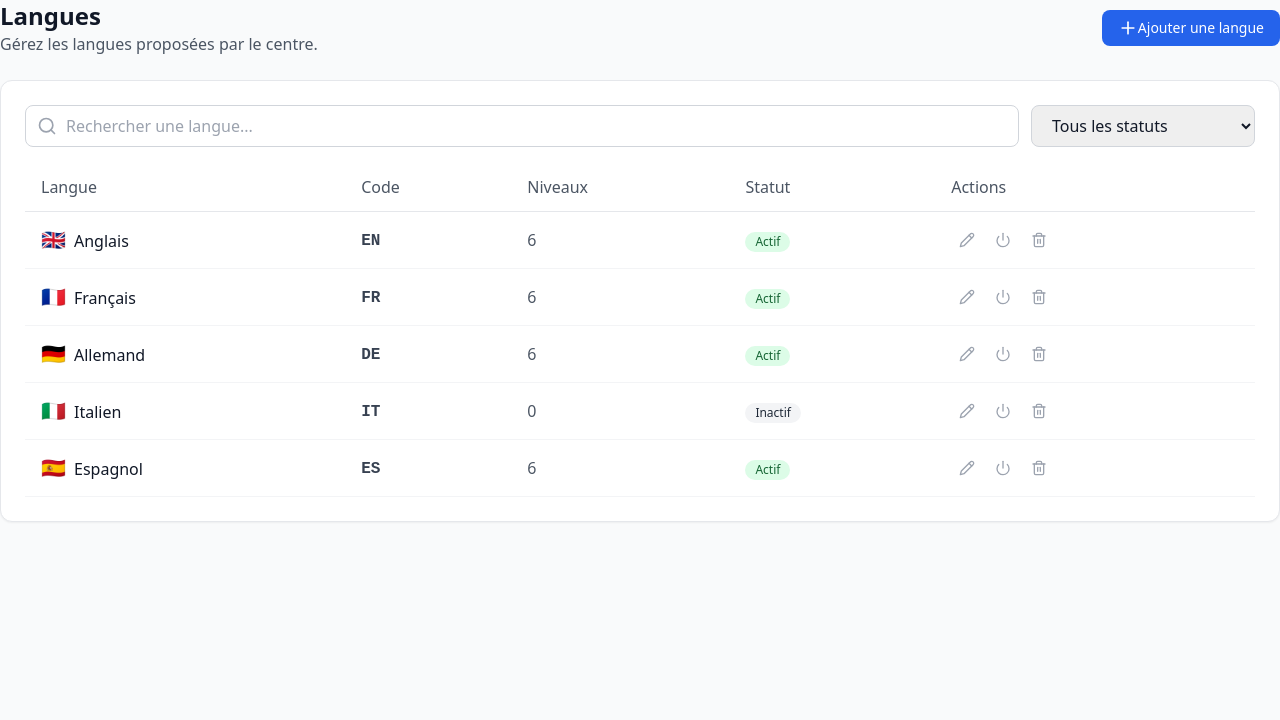
Test: Languages page (démo locale) › adds a language through the modal
Click the button "Ajouter une langue".
click(1191, 28)  # box [1102, 10, 1279, 46]
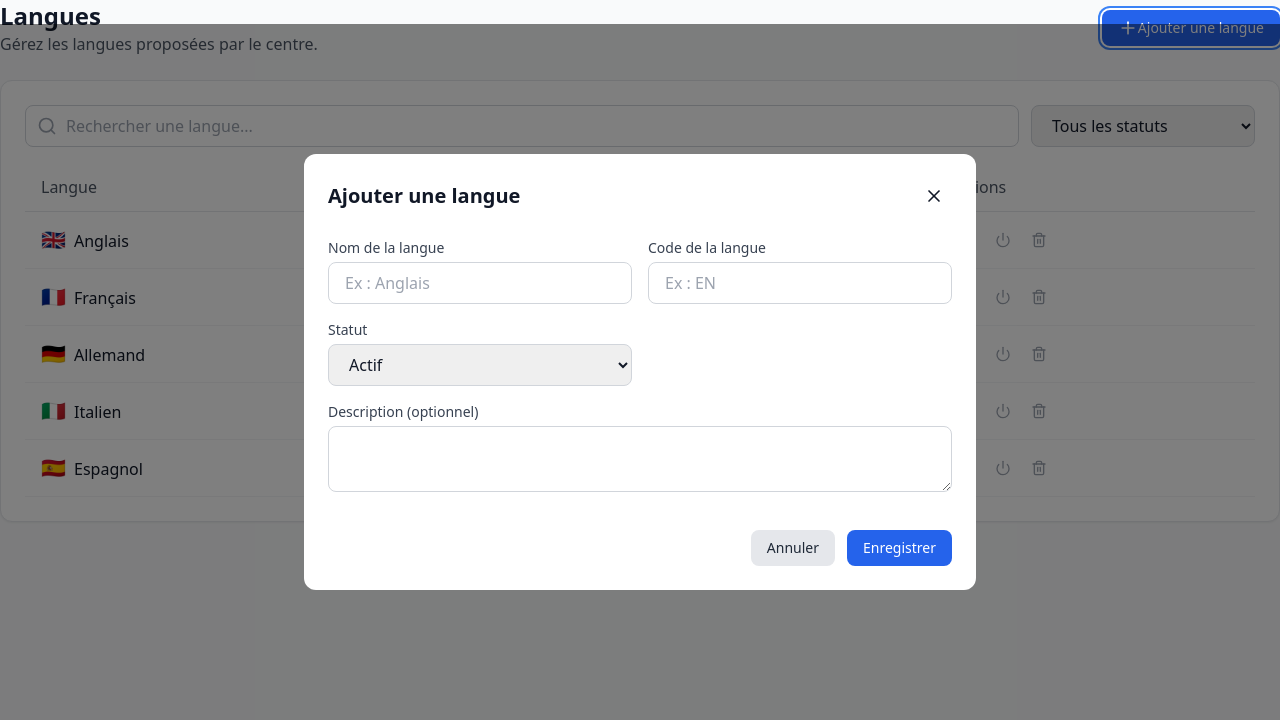
Now the dialog is shown
Type "Portugais" into the field labelled "Nom de la langue".
click(480, 283); type("Portugais")  # box [328, 262, 632, 304]
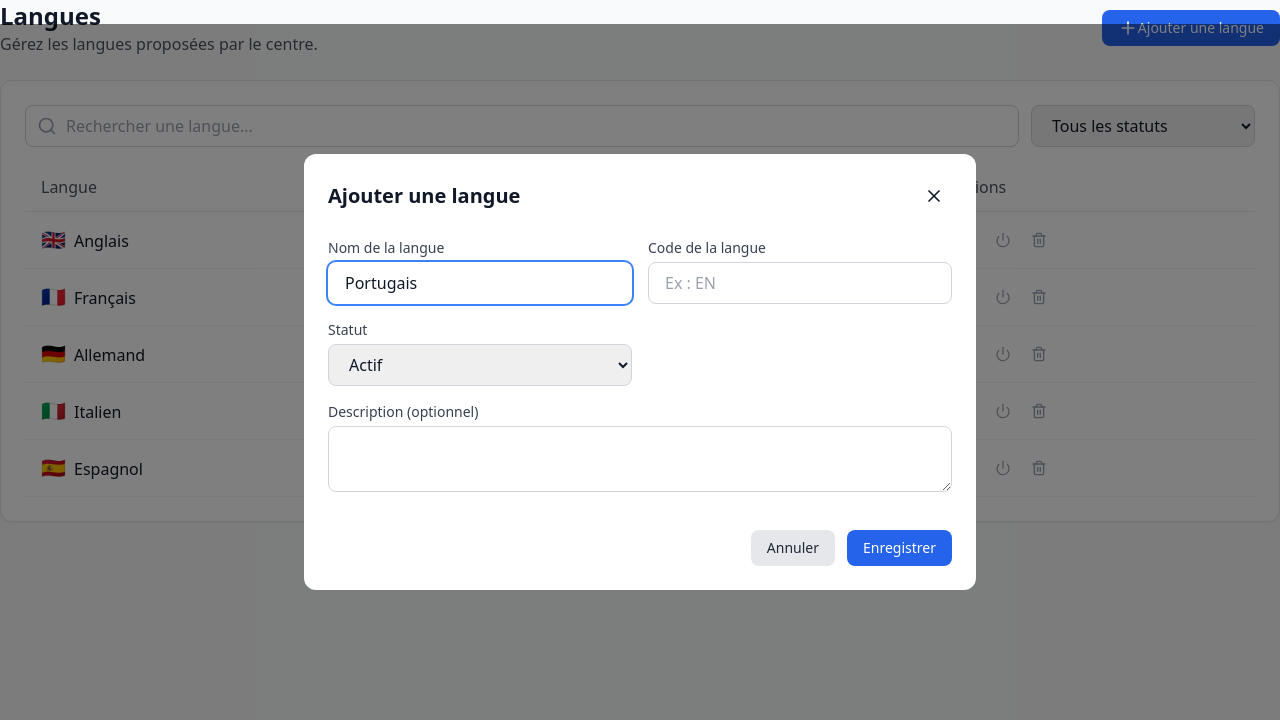
Type "PT" into the field labelled "Code de la langue".
click(800, 283); type("PT")  # box [648, 262, 952, 304]
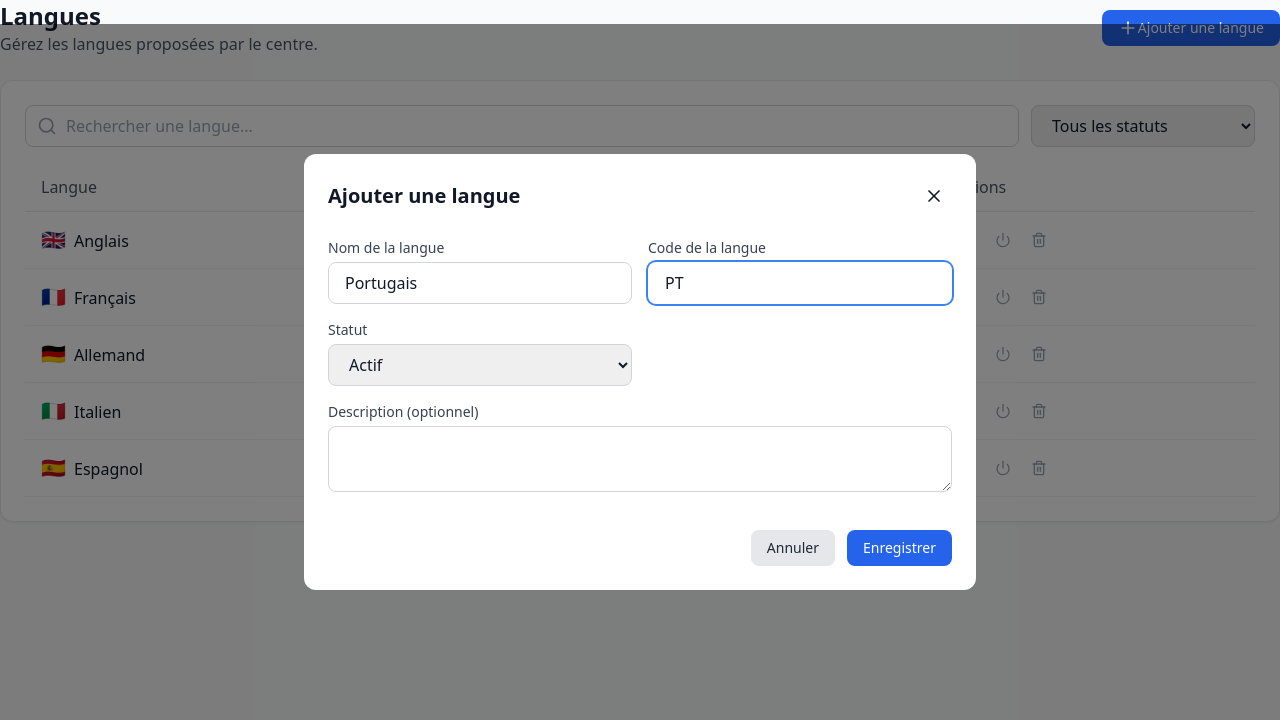
Click the button "Enregistrer".
click(900, 548)  # box [847, 530, 952, 566]
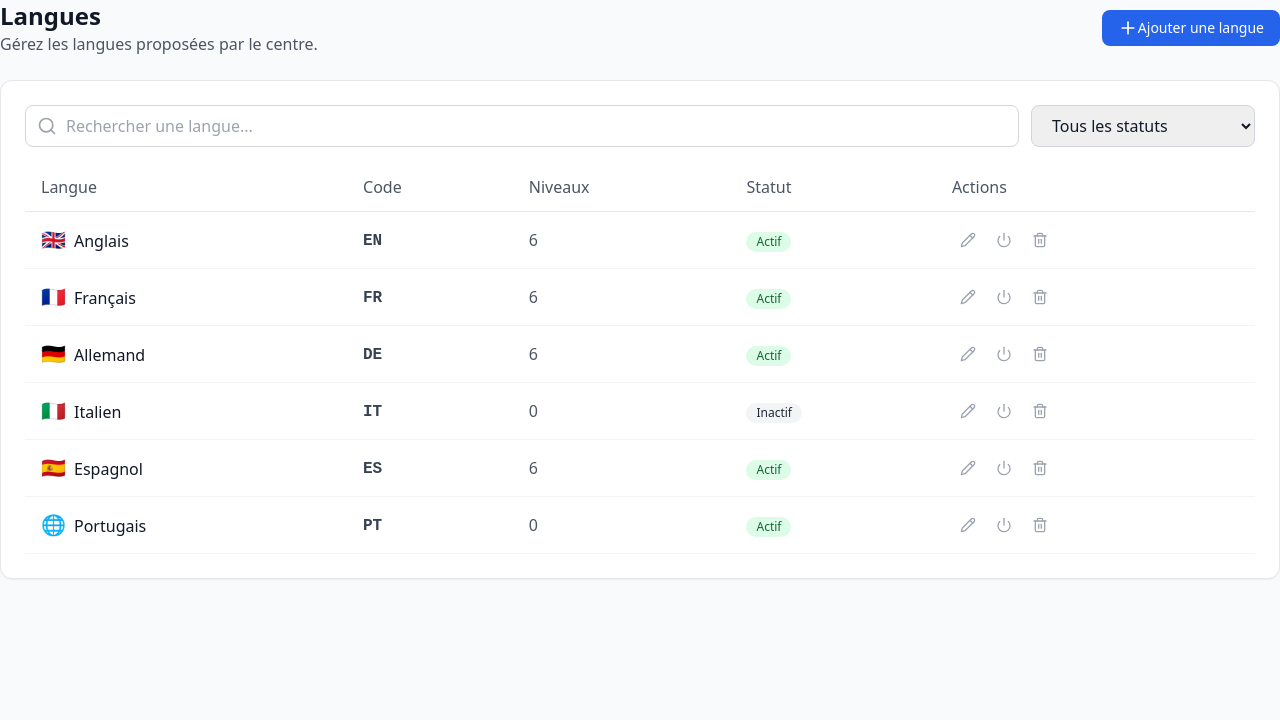
Now the text "Portugais" is shown, box [74, 515, 146, 537]
